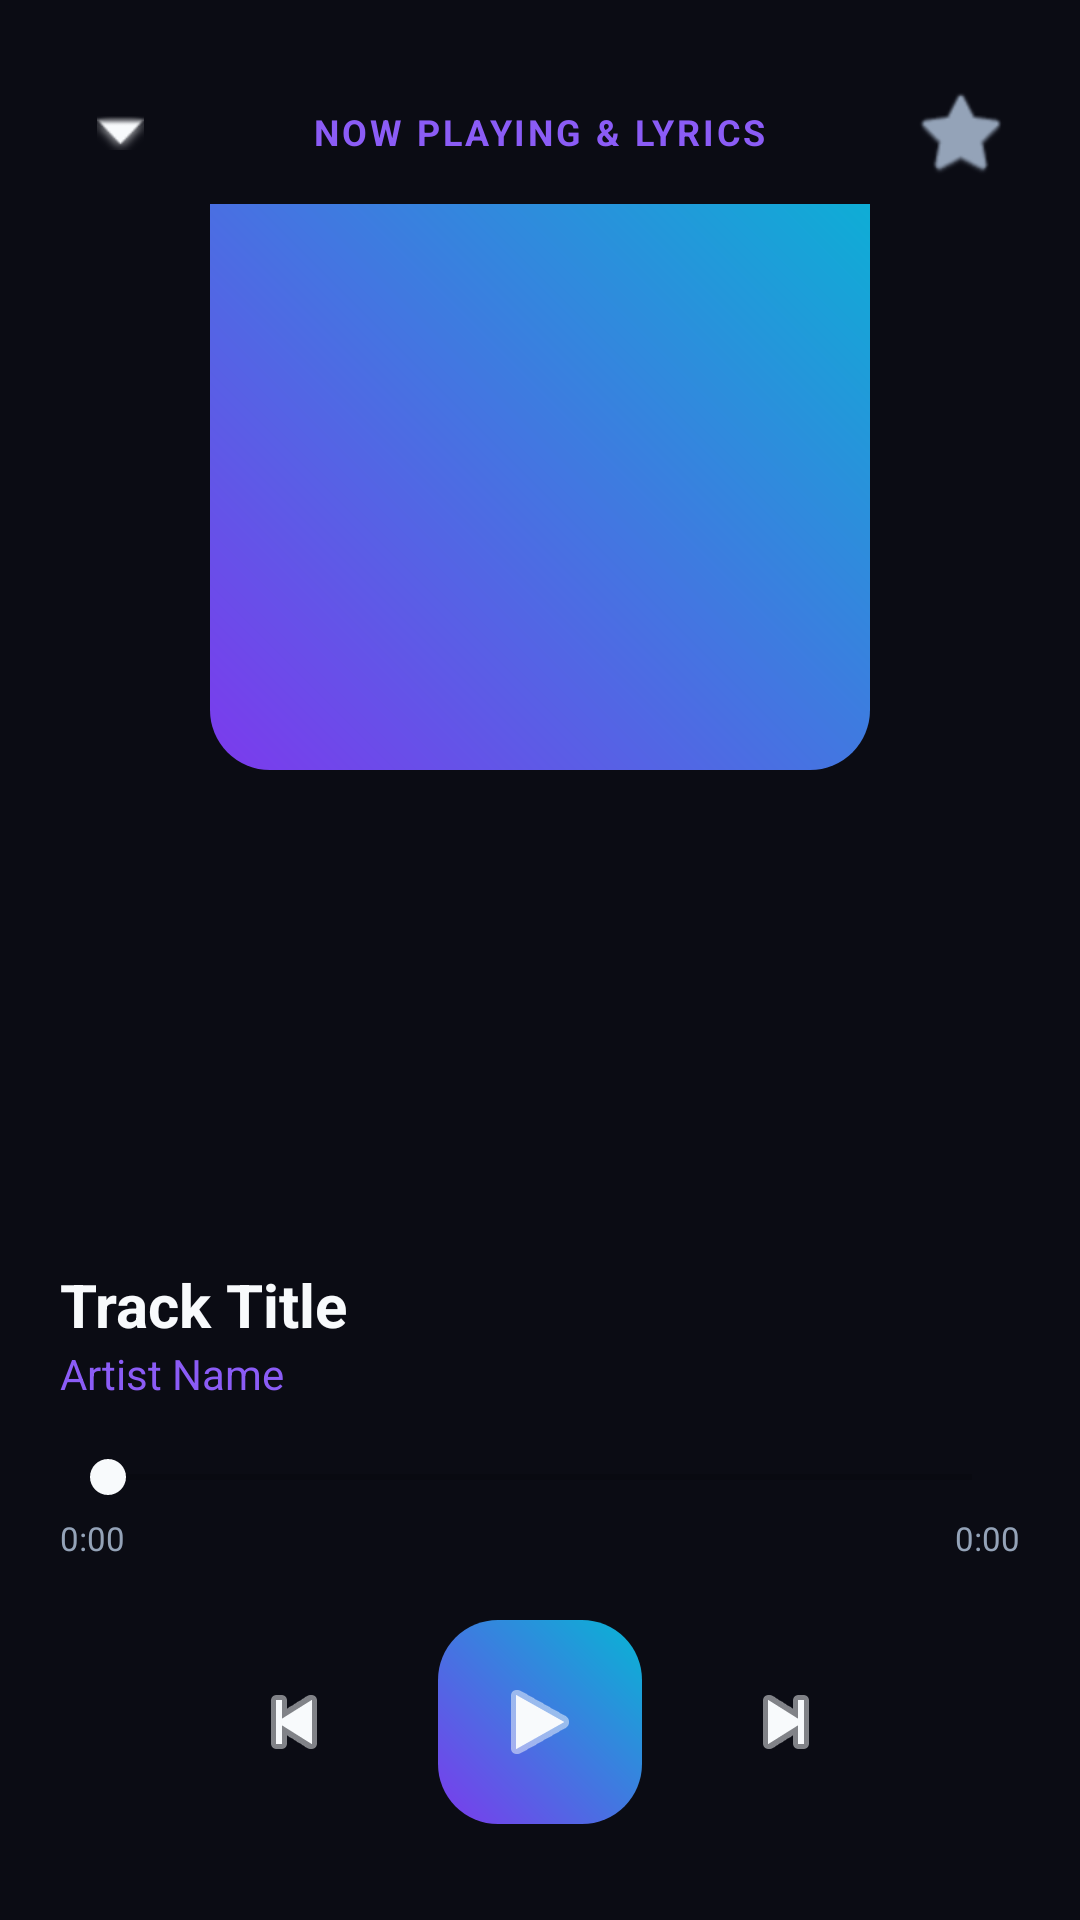

Named icons in this screenshot (1080 x 1920) and their bounding boxes, Rect(x1, y1, x2, y2):
arrow down float: Rect(97, 117, 144, 149)
next: Rect(763, 1695, 809, 1749)
play: Rect(438, 1620, 642, 1824)
previous: Rect(271, 1695, 317, 1749)
star: Rect(921, 94, 1001, 171)
